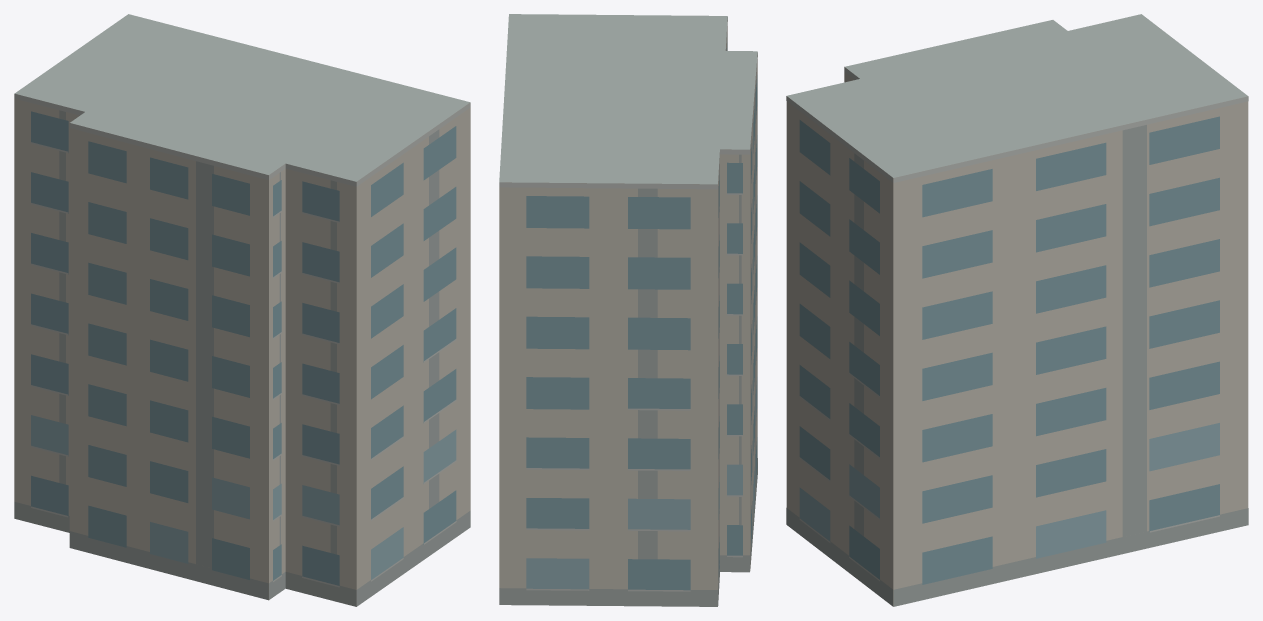
Rendered from survey-upis-33012613.glb.
The picture shows the model from 3 angles, left to right: view 1: azimuth 30°, elevation 25°; view 2: azimuth 150°, elevation 25°; view 3: azimuth 270°, elevation 25°; orthographic projection.
Visible parts, largest first — view 1: survey-upis-33012613.tmp; view 2: survey-upis-33012613.tmp; view 3: survey-upis-33012613.tmp.
Boxes of the visible parts, box(x1,y1,x2,y2) form: survey-upis-33012613.tmp: box(14, 14, 470, 606); survey-upis-33012613.tmp: box(499, 14, 757, 606); survey-upis-33012613.tmp: box(786, 14, 1248, 606).
Size of the model in its own units: 16.74 by 20.4 by 19.93.
